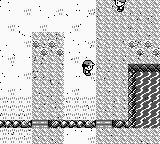captura: (137, 73, 160, 127)
main: (82, 60, 95, 76)
mo: (128, 63, 160, 128)
npc: (113, 0, 126, 12)
salto: (48, 120, 95, 128), (1, 120, 31, 128), (113, 121, 128, 127)
